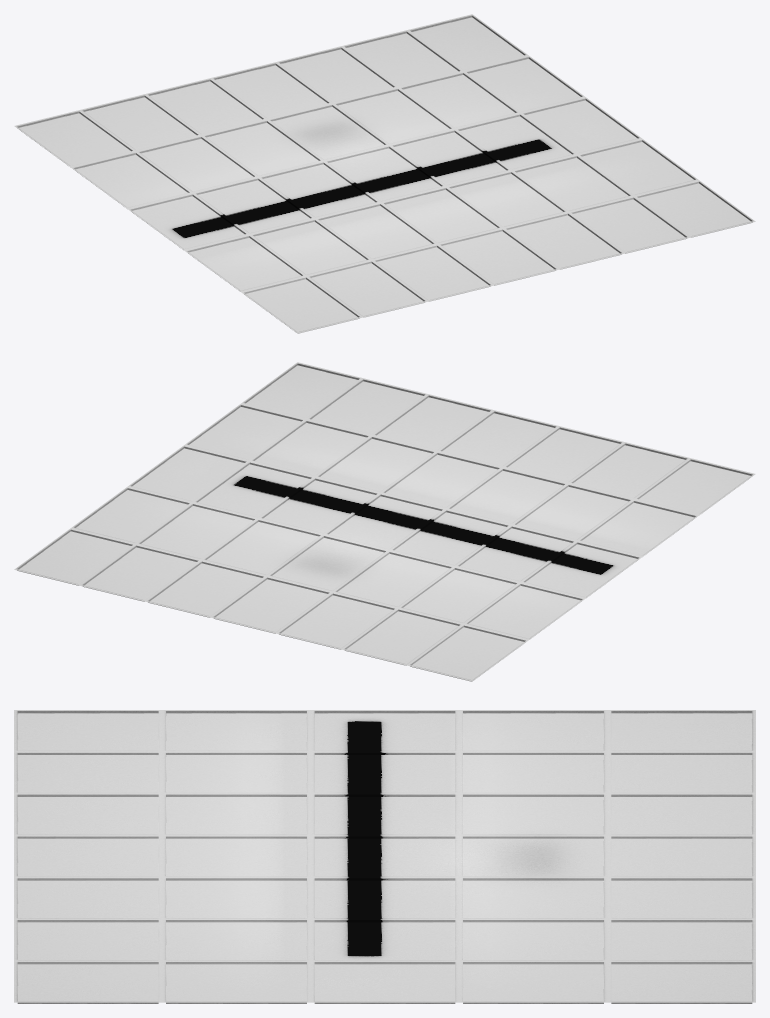
Rendered from ceiling.fbx.
3 views of the same model, one above another, from view 1: azimuth 30°, elevation 25°; view 2: azimuth 150°, elevation 25°; view 3: azimuth 270°, elevation 25° (orthographic). The views are drawn at different scales.
Visible parts, largest first — view 1: Plane.000; view 2: Plane.000; view 3: Plane.000.
Part boxes in pixels (x1,y1,x2,y2): Plane.000: (14,14,755,333); Plane.000: (14,362,755,681); Plane.000: (14,710,755,1003).
Bounding box in the file's own units: 1400 × 82.25 × 1500.
1 material, 1 textured.
